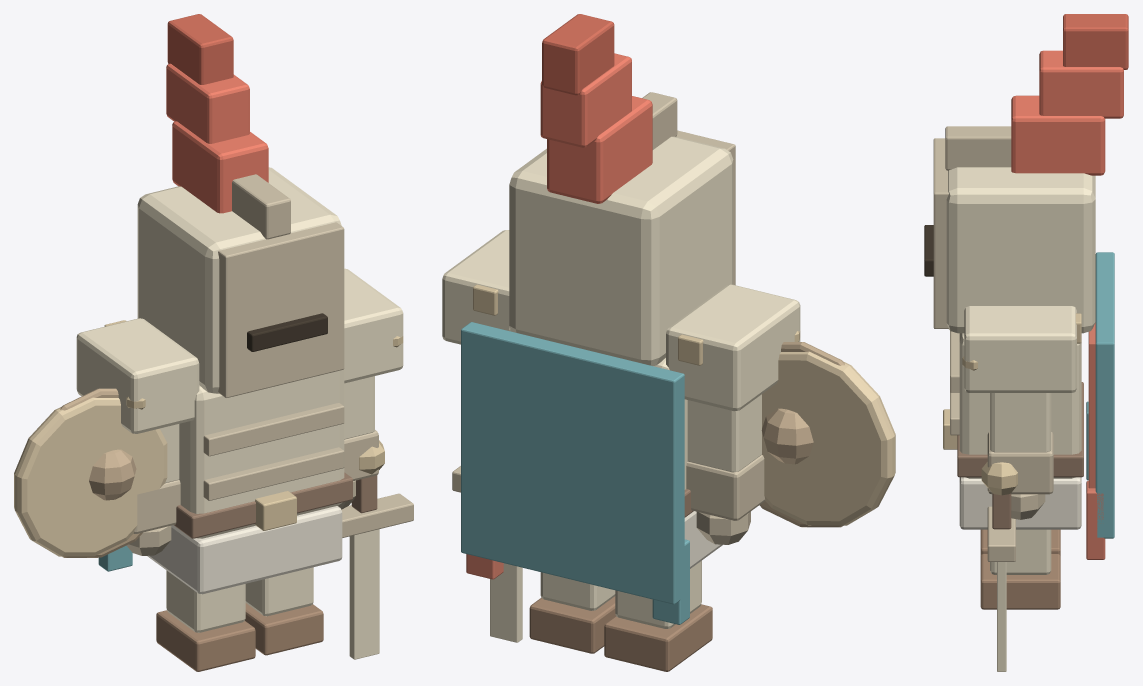
Rendered from knight_v4.glb.
3 views of the same model, side by side, from view 1: azimuth 30°, elevation 25°; view 2: azimuth 150°, elevation 25°; view 3: azimuth 270°, elevation 25° (orthographic). The views are drawn at different scales.
Visible parts, largest first — view 1: Helmet_Face, Shield_Disc, Helmet, Body_Cuirass, Pauldron_L, Tunic_Skirt, Plume_Base, Pauldron_R, Plume_Mid, Sword_Blade, LegL_Boot, Plume_Top (+20 smaller); view 2: Cape_Outer, Helmet, Shield_Disc, Pauldron_L, Plume_Base, Plume_Mid, Pauldron_R, ArmL_Upper, Plume_Top, LegL_Boot, ArmL_Cuff, LegR_Boot (+13 smaller); view 3: Helmet, Pauldron_R, Plume_Base, Cape_Outer, Plume_Mid, Body_Cuirass, Tunic_Skirt, ArmR_Upper, Plume_Top, LegR_Boot, Helmet_Ridge, Helmet_Face (+15 smaller).
Boxes of the visible parts, x1,y1,x2,y2 form: Helmet_Face: [218, 222, 344, 398]; Shield_Disc: [14, 397, 167, 556]; Helmet: [137, 167, 341, 393]; Body_Cuirass: [179, 369, 344, 538]; Pauldron_L: [76, 318, 199, 433]; Tunic_Skirt: [147, 506, 342, 594]; Plume_Base: [172, 121, 268, 213]; Pauldron_R: [344, 268, 403, 383]; Plume_Mid: [166, 63, 249, 143]; Sword_Blade: [349, 529, 379, 659]; LegL_Boot: [156, 610, 255, 671]; Plume_Top: [167, 14, 233, 84]; Cape_Outer: [461, 322, 684, 604]; Helmet: [509, 136, 733, 365]; Shield_Disc: [762, 351, 895, 525]; Pauldron_L: [666, 284, 800, 411]; Plume_Base: [547, 96, 652, 203]; Plume_Mid: [540, 53, 631, 147]; Pauldron_R: [442, 230, 509, 344]; ArmL_Upper: [687, 394, 761, 472]; Plume_Top: [542, 14, 614, 95]; LegL_Boot: [604, 604, 712, 671]; ArmL_Cuff: [686, 455, 764, 520]; LegR_Boot: [529, 596, 615, 653]; Helmet: [946, 167, 1095, 333]; Pauldron_R: [964, 306, 1076, 392]; Plume_Base: [1011, 95, 1105, 175]; Cape_Outer: [1095, 252, 1114, 538]; Plume_Mid: [1039, 50, 1123, 118]; Body_Cuirass: [959, 333, 1081, 478]; Tunic_Skirt: [959, 477, 1081, 529]; ArmR_Upper: [990, 393, 1051, 452]; Plume_Top: [1063, 14, 1128, 69]; LegR_Boot: [980, 554, 1060, 609]; Helmet_Ridge: [945, 126, 1011, 170]; Helmet_Face: [933, 138, 948, 328].
Size of the model in its own units: 0.9255 by 1.39 by 0.435.
